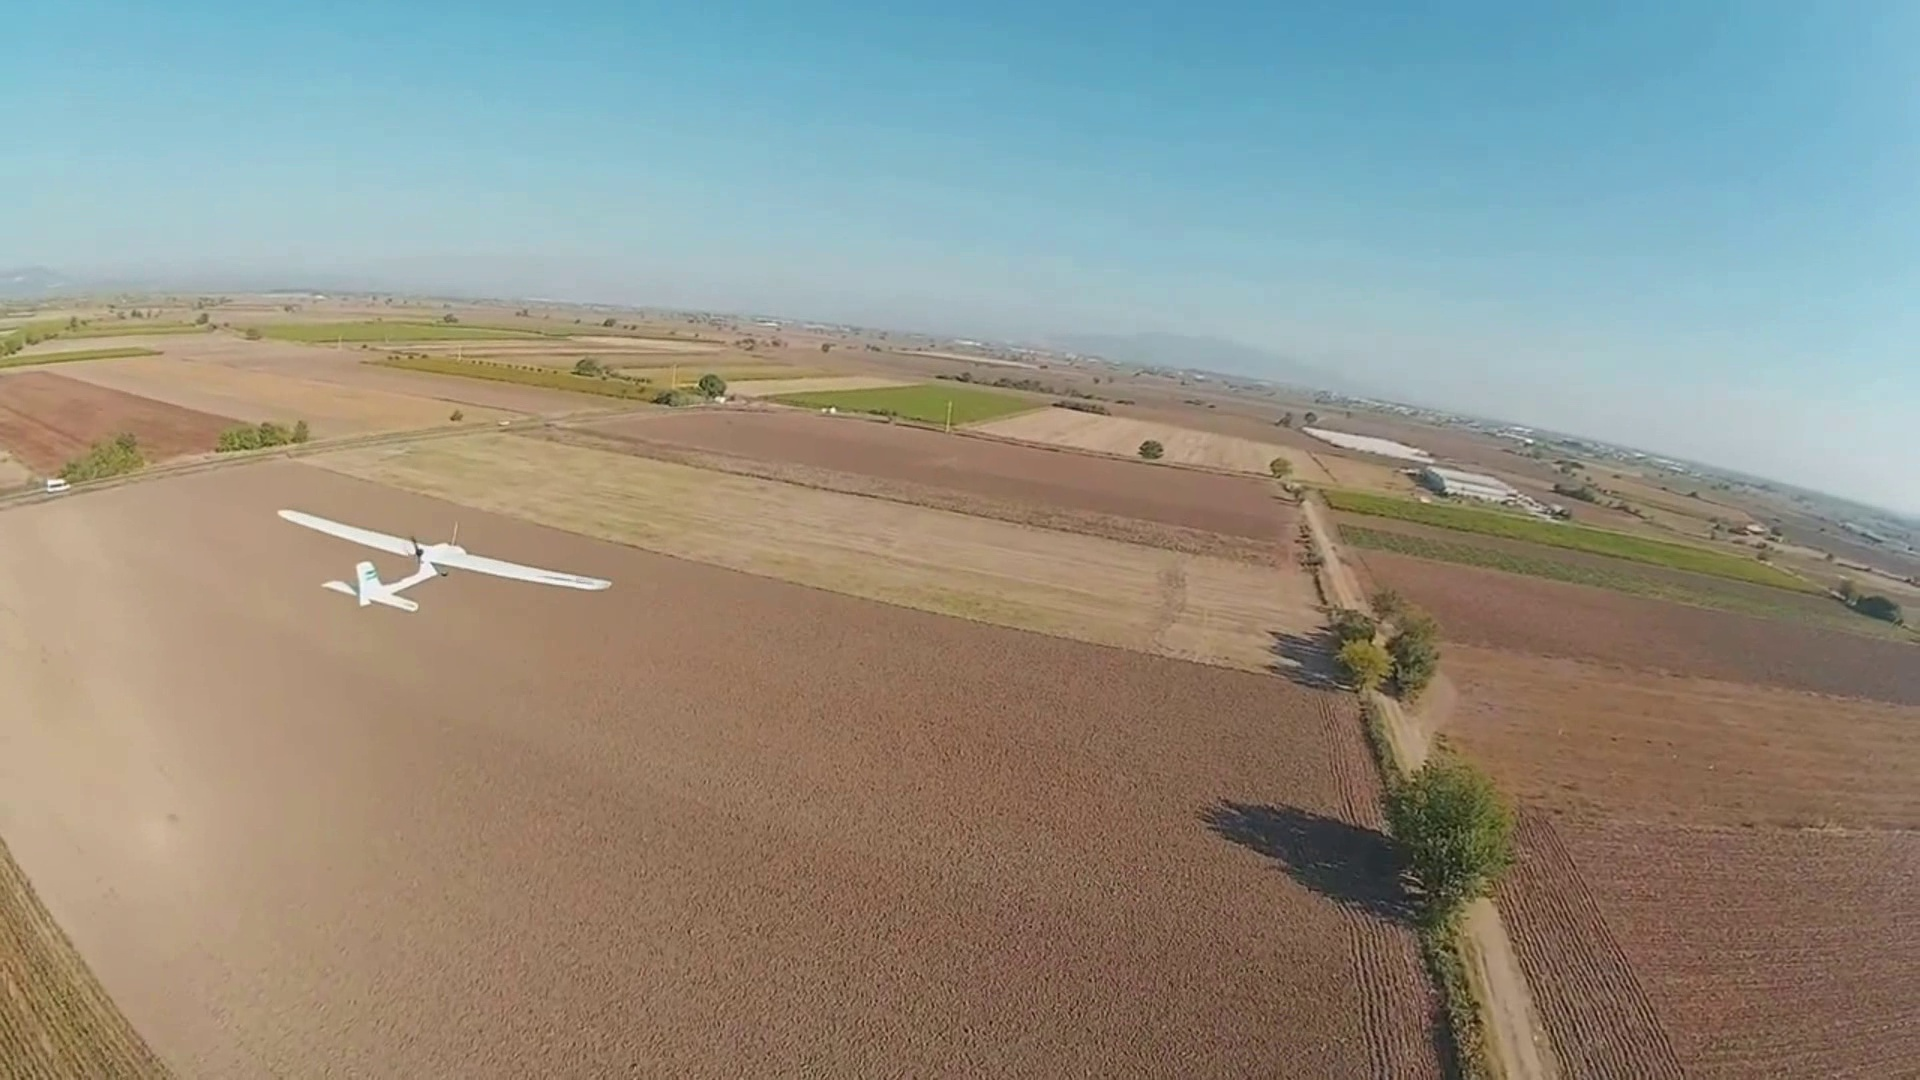airplane: (273, 504, 611, 613)
